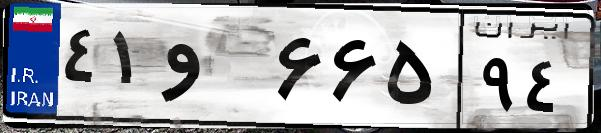1: (110, 28, 158, 98)
4: (57, 26, 110, 100), (525, 38, 570, 115)
5: (385, 28, 445, 110)
6: (270, 28, 330, 110), (330, 28, 385, 110)
9: (475, 38, 525, 113)
و: (158, 20, 270, 120)
